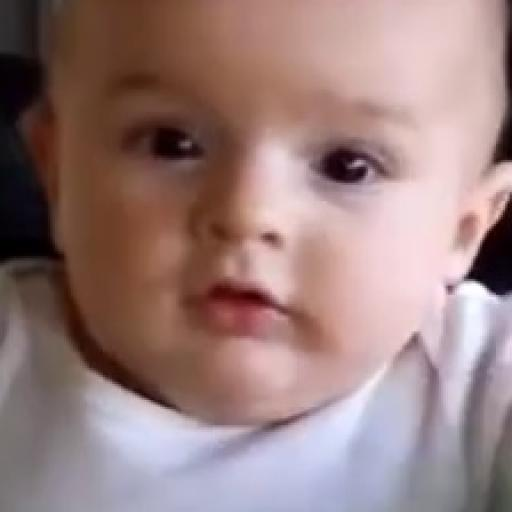Autism: (31, 0, 493, 427)
